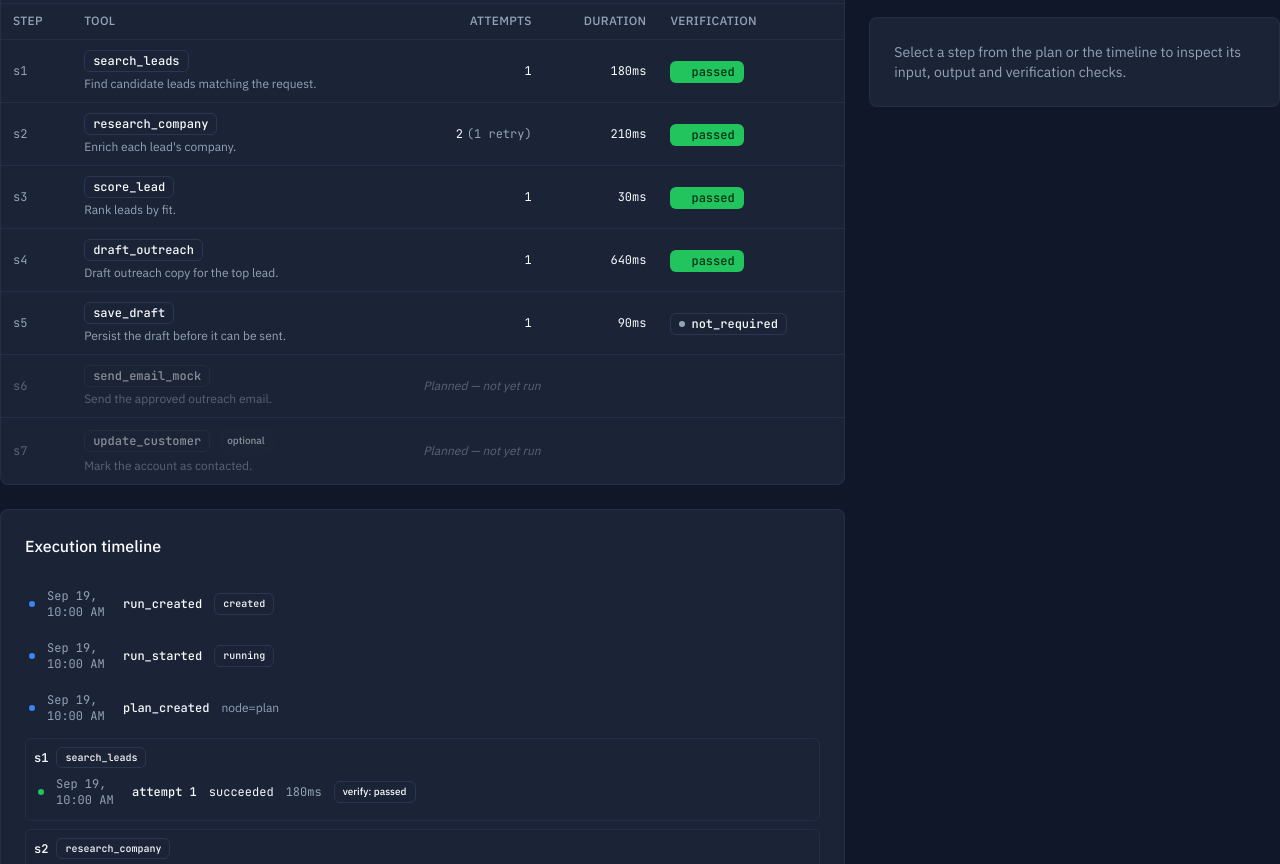
RunDetailView › shows an unrun step with no attempts in the inspector, inventing nothing
The image size is (1280, 864).
(page scrolled)
Click the text "s7": (20, 451) [1, 418, 72, 484]
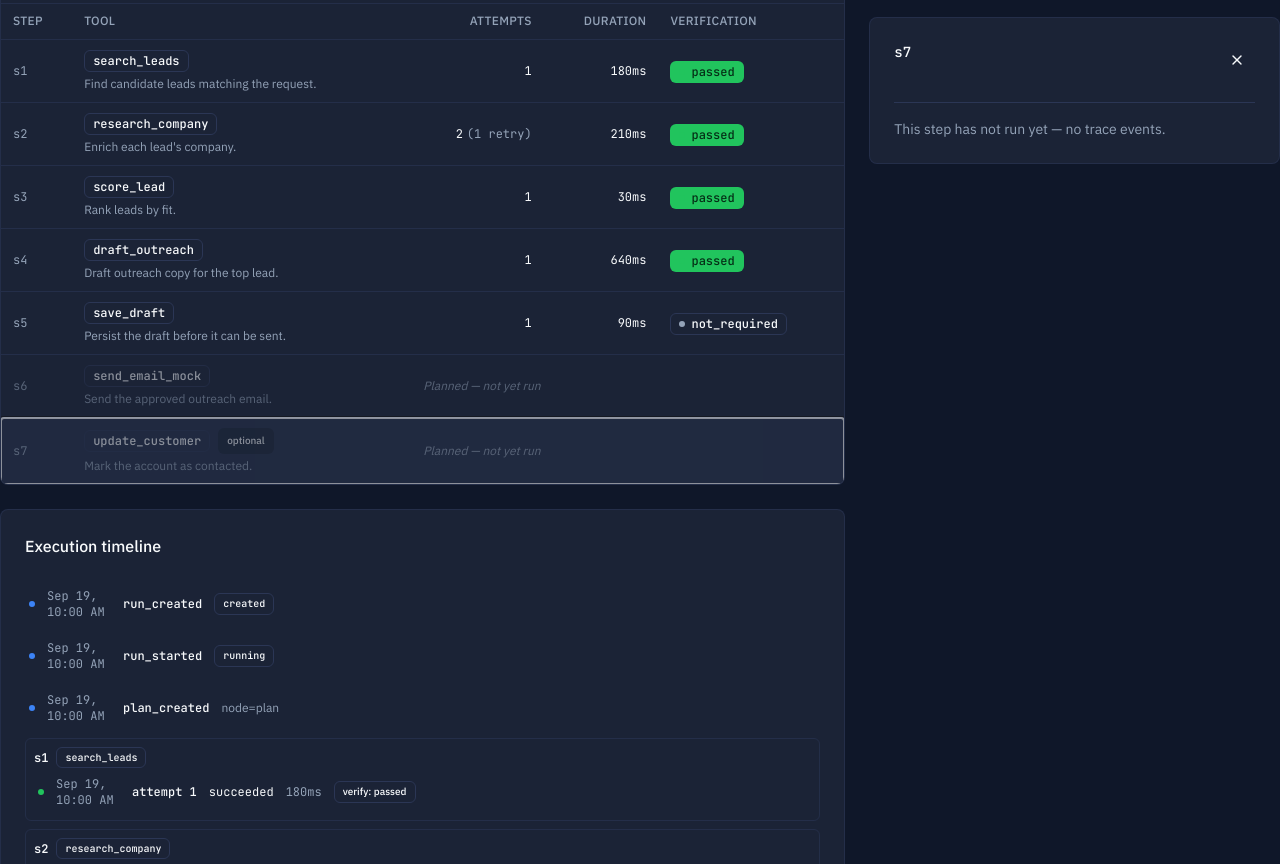
Now the text "This step has not run yet — no trace events." is shown, box [894, 119, 1166, 137]
